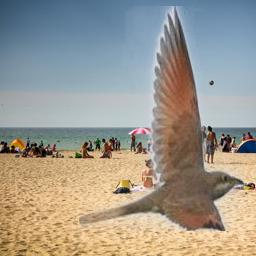Cuckoo: (79, 6, 245, 231)
